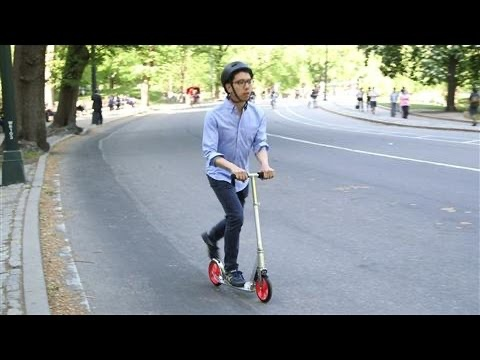helmet: (220, 60, 254, 104)
